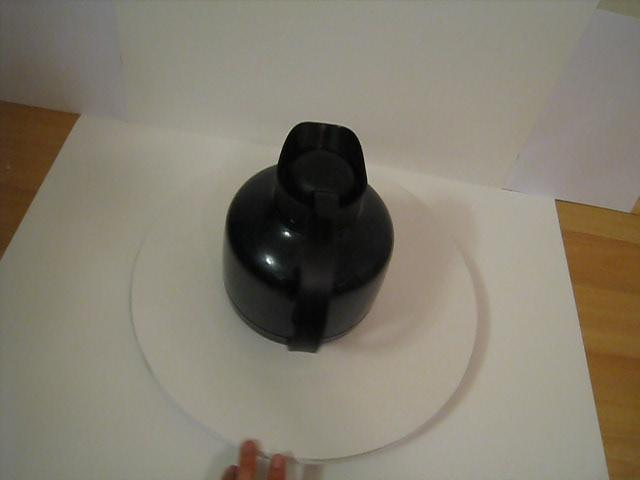pitcher: (213, 117, 410, 379)
